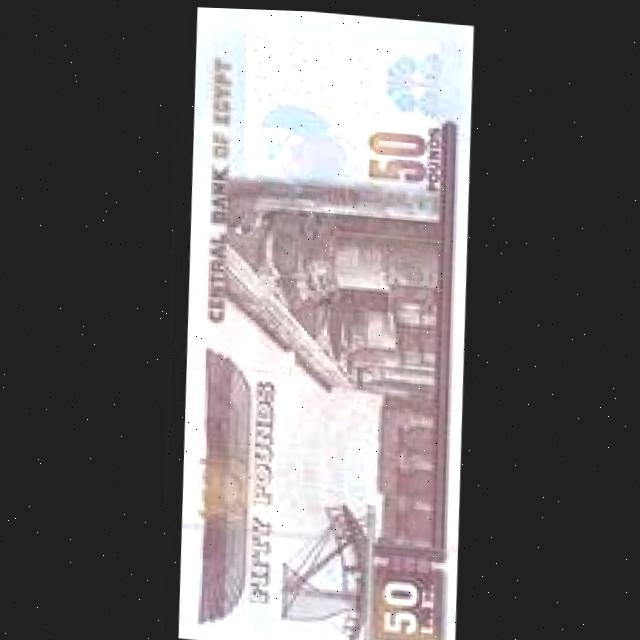banknote: (160, 5, 481, 640)
